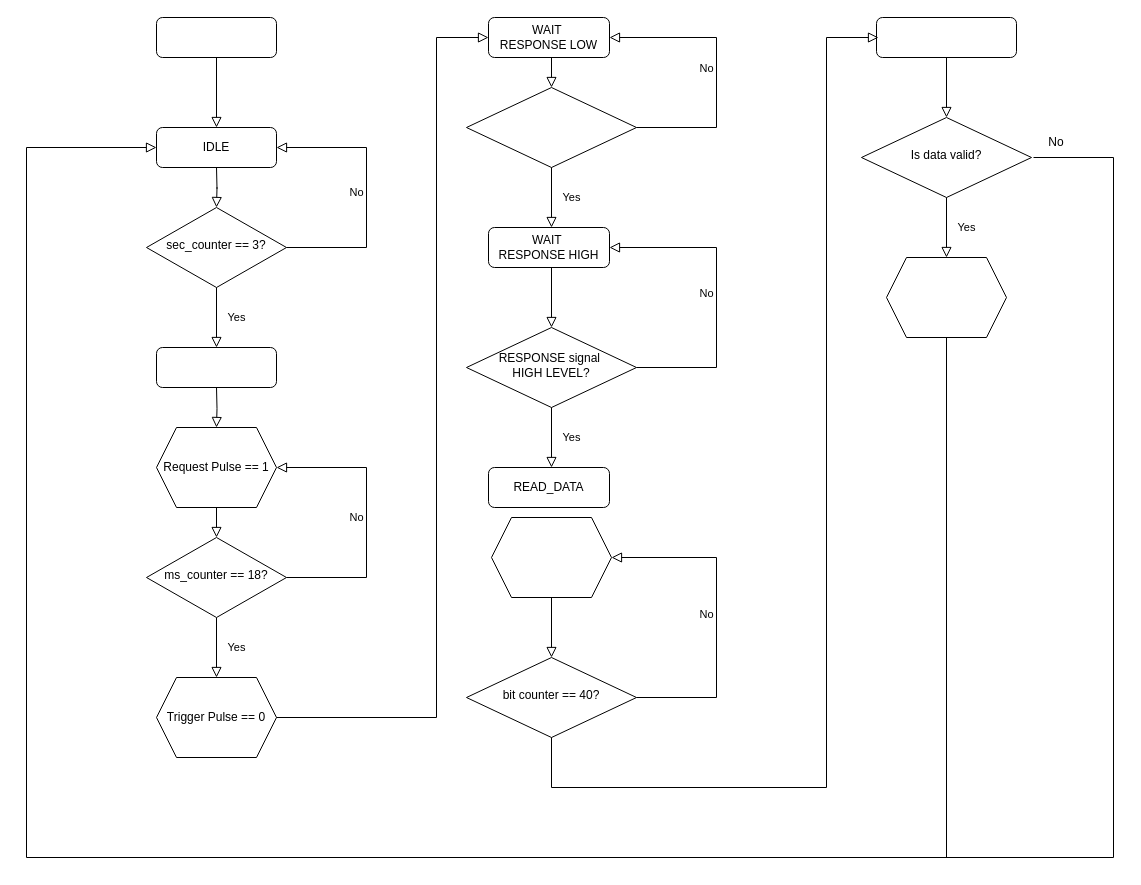
Image size: 1141x885. Some labels were removed from this diagram. Each missing label, with the centre of its shape:
"Display Data" goes at (946,297).
"Power On" goes at (216,37).
"read data from DHT-11" goes at (551,557).
"RESPONSE signal LOW LEVEL?" goes at (551,127).
"SEND_REQUSET" goes at (216,367).
"VERIFY CHECKSUM" goes at (946,37).
